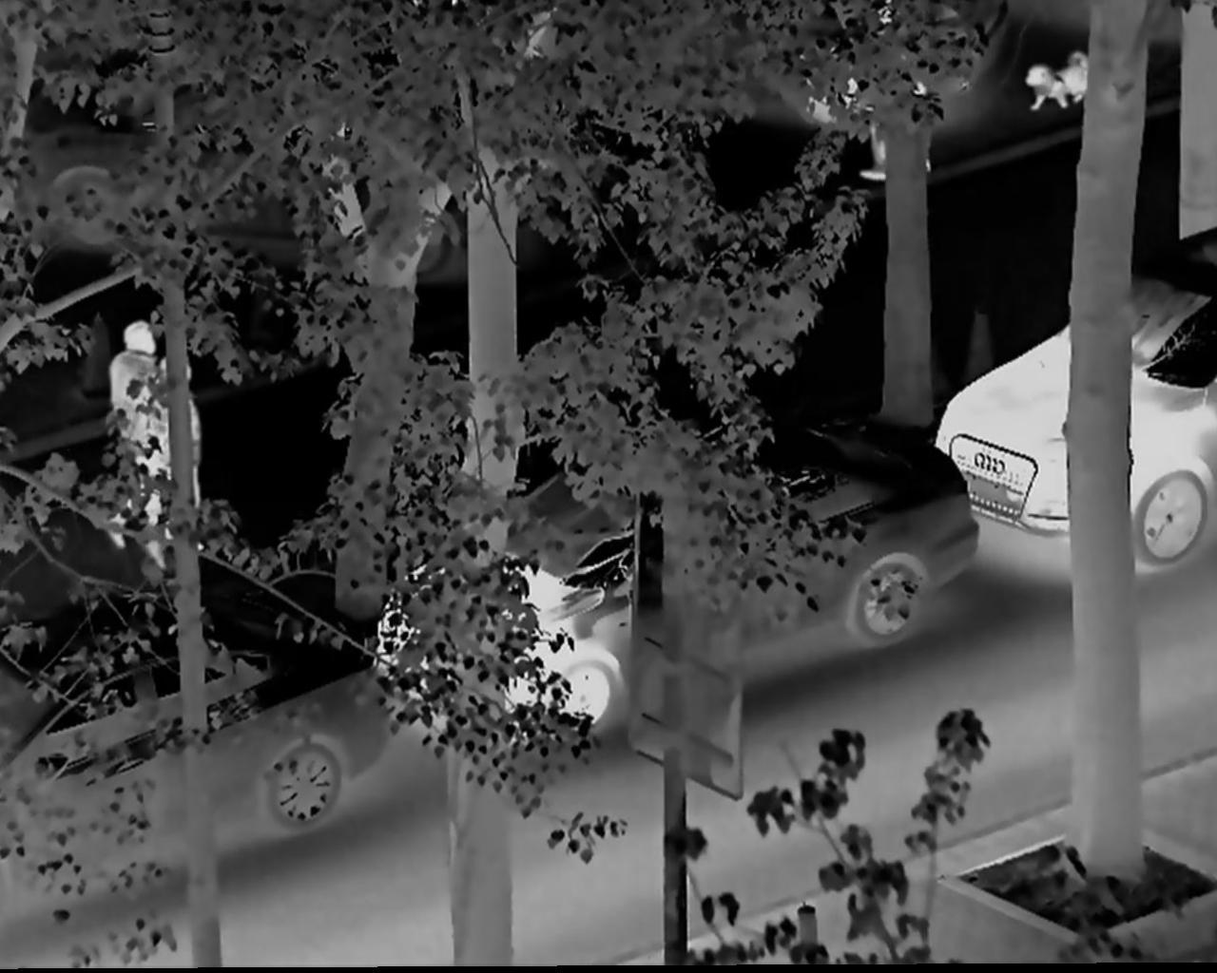person: (137, 361, 213, 563), (104, 315, 159, 490)
